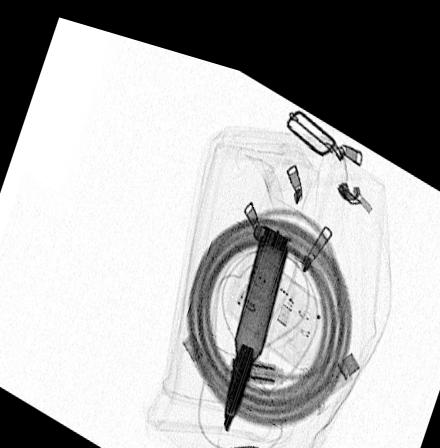Bullet: (222, 208, 290, 419)
